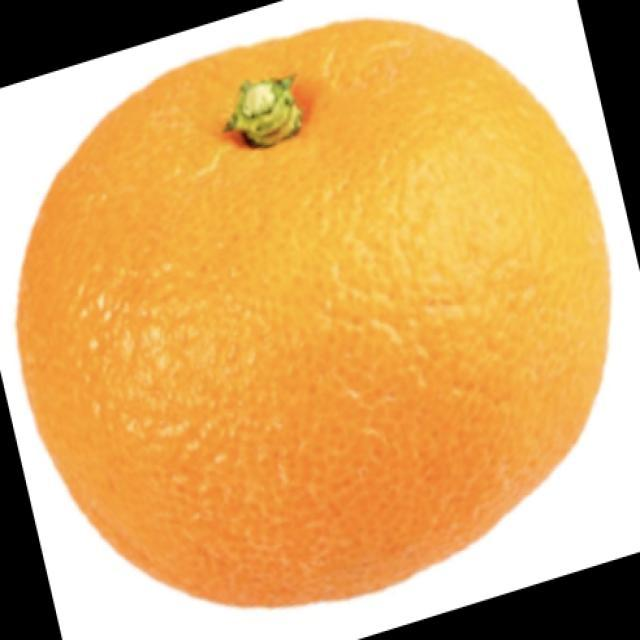matang: (23, 20, 616, 606)
